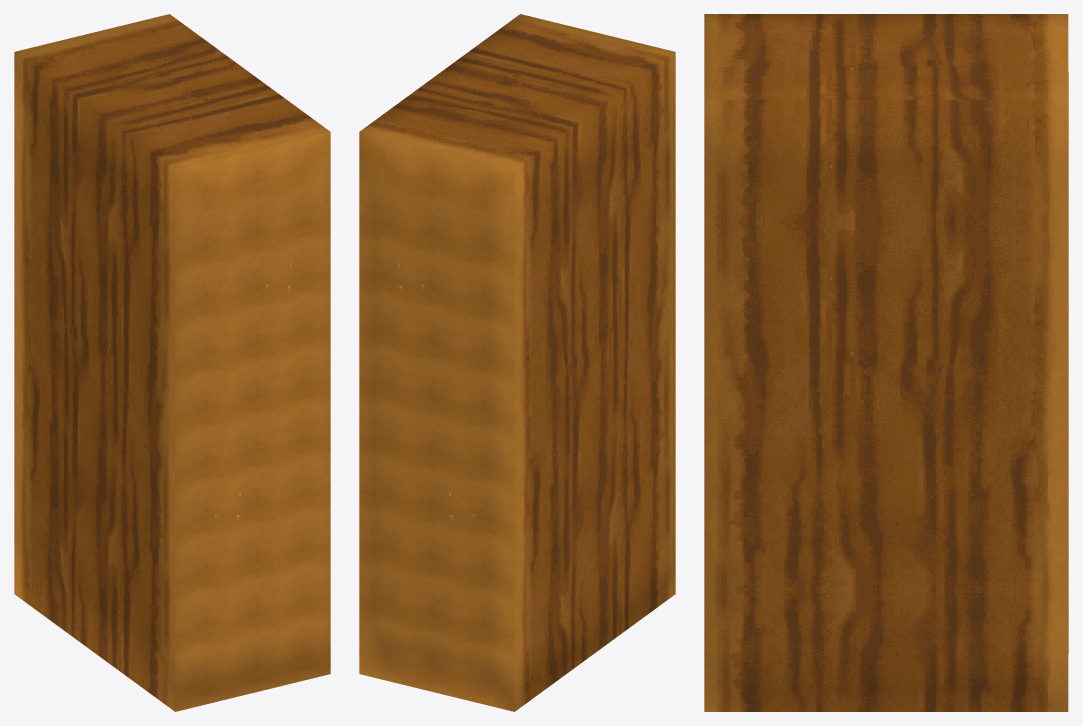
Rendered from SM_AP_CanyonWall_2.glb.
The picture shows the model from 3 angles, left to right: view 1: azimuth 30°, elevation 25°; view 2: azimuth 150°, elevation 25°; view 3: azimuth 270°, elevation 25°; orthographic projection. The views are drawn at different scales.
Visible parts, largest first — view 1: SM_AP_CanyonWall_2; view 2: SM_AP_CanyonWall_2; view 3: SM_AP_CanyonWall_2.
Boxes of the visible parts, x1,y1,x2,y2 form: SM_AP_CanyonWall_2: (14,14,330,711); SM_AP_CanyonWall_2: (359,14,675,711); SM_AP_CanyonWall_2: (704,14,1068,711).
Size of the model in its own units: 12 by 40 by 21.56.
Materials: 1 (1 with a texture image).
